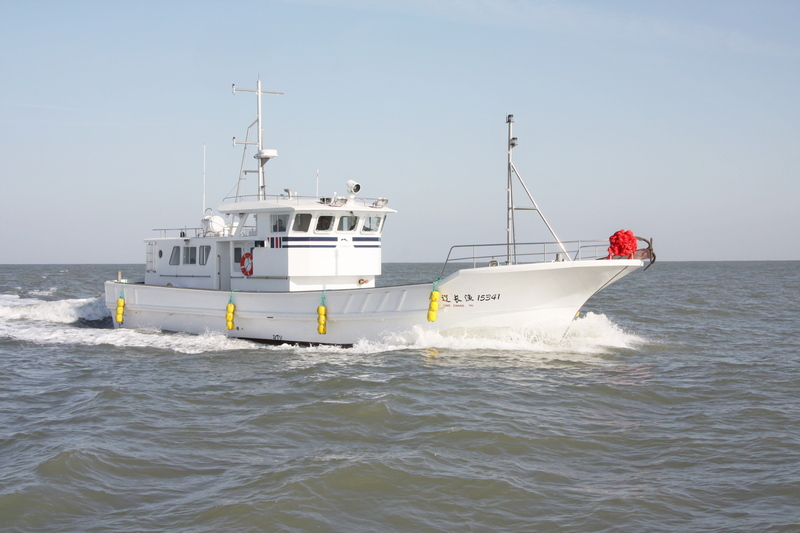otherboat: (105, 106, 664, 354)
